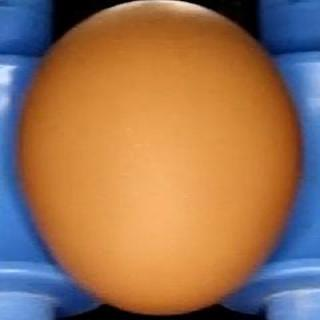Telur: (14, 1, 308, 316)
